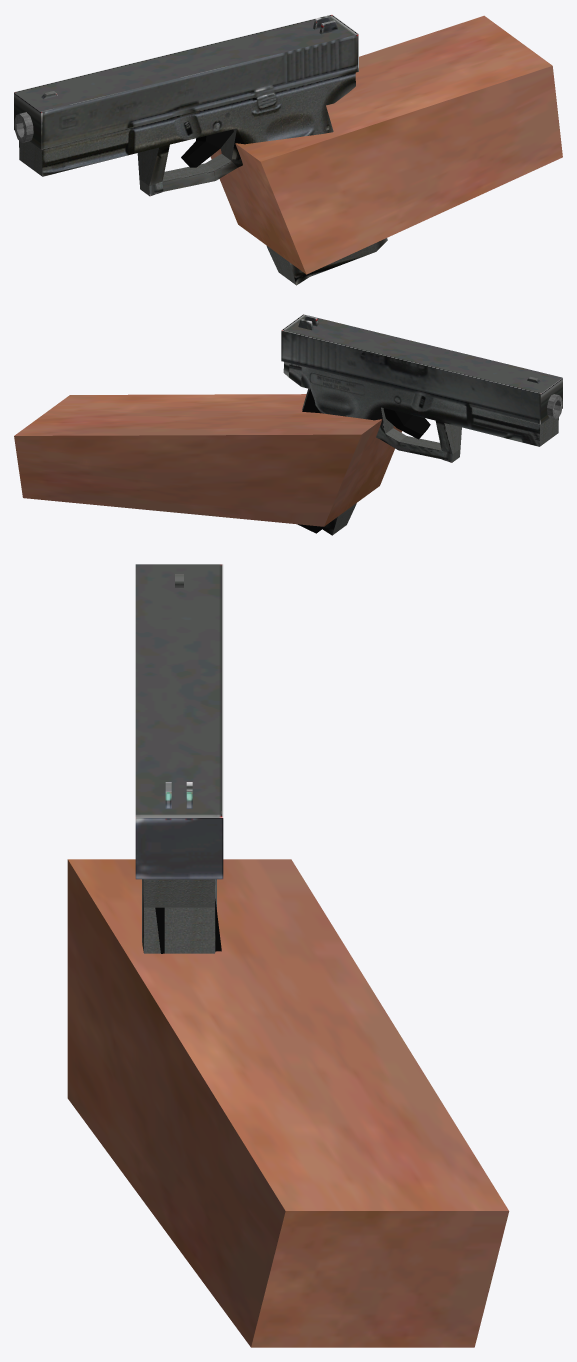
File: pistol_000038.obj
The picture shows the model from 3 angles, top to bottom: view 1: azimuth 30°, elevation 25°; view 2: azimuth 150°, elevation 25°; view 3: azimuth 270°, elevation 25°; orthographic projection. The views are drawn at different scales.
Parts seen in each view (by area): view 1: Cube, Cube.001, Cube.003; view 2: Cube, Cube.001, Cube.003, Cube.002; view 3: Cube, Cube.001.
Boxes of the visible parts, x1,y1,x2,y2 form: Cube: (14, 15, 562, 285); Cube.001: (14, 14, 358, 149); Cube.003: (181, 129, 233, 167); Cube: (14, 362, 562, 535); Cube.001: (281, 314, 562, 424); Cube.003: (383, 408, 430, 439); Cube.002: (297, 388, 322, 533); Cube: (67, 859, 509, 1347); Cube.001: (135, 564, 223, 879).
Size of the model in its own units: 1.74 by 0.735 by 0.7214.
